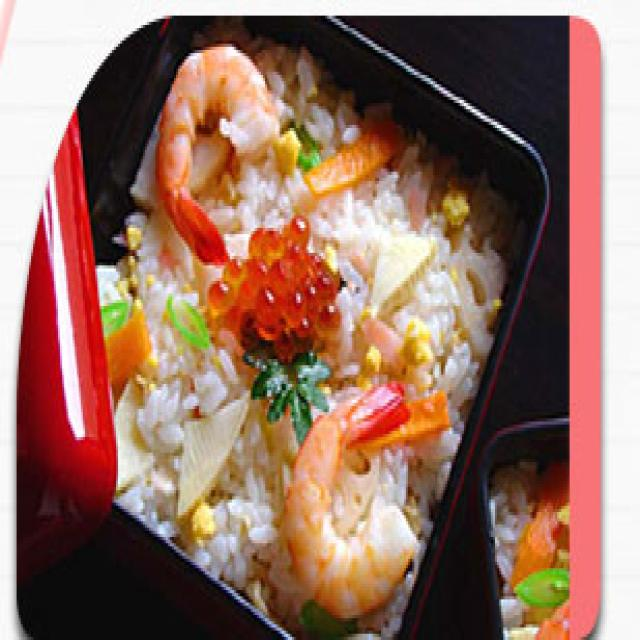寿司卷物: (106, 25, 546, 640)
